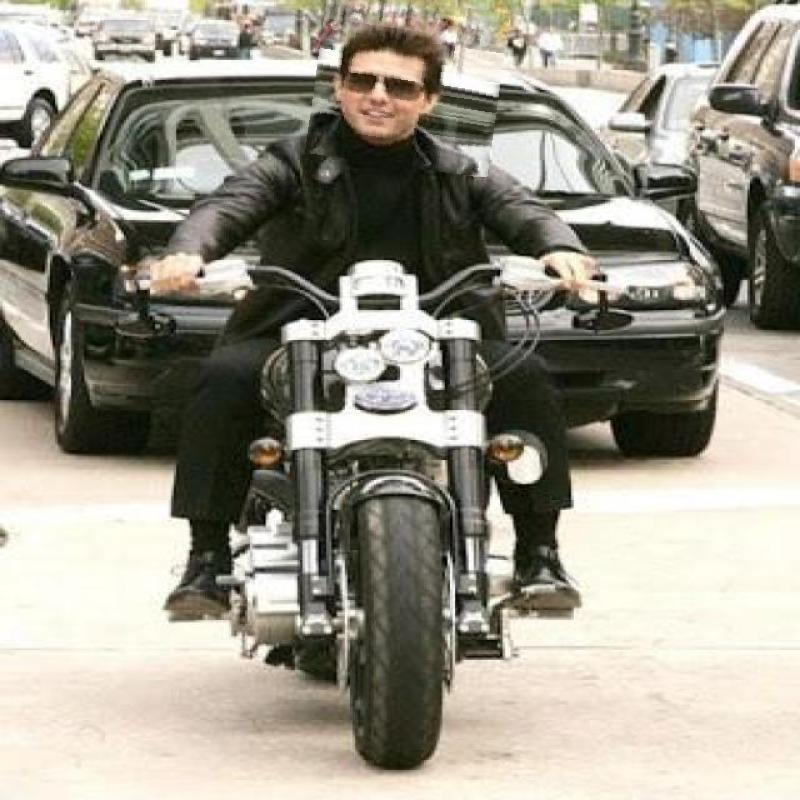nohelmet: (310, 0, 505, 171)
